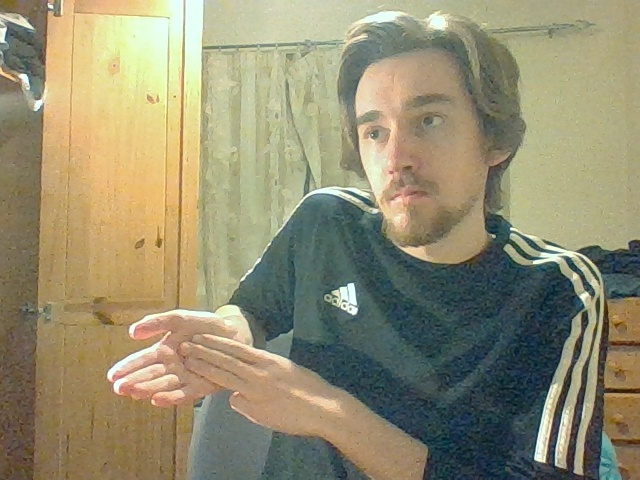mother: (106, 309, 252, 405)
